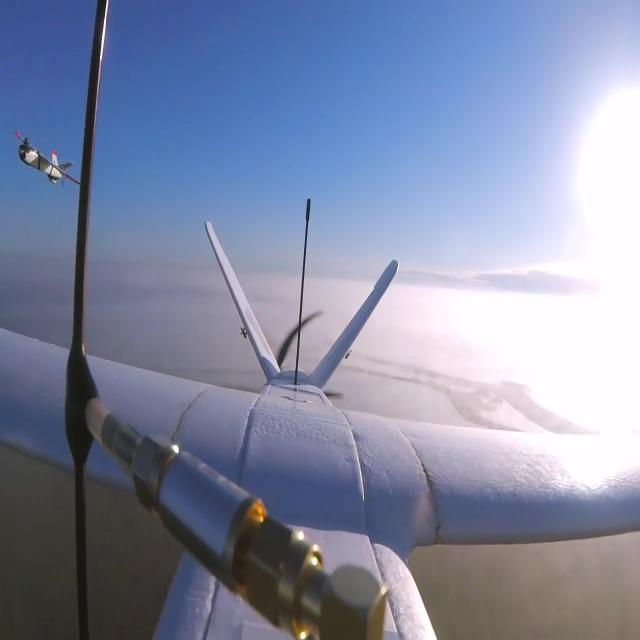iha: (45, 126, 48, 190)
